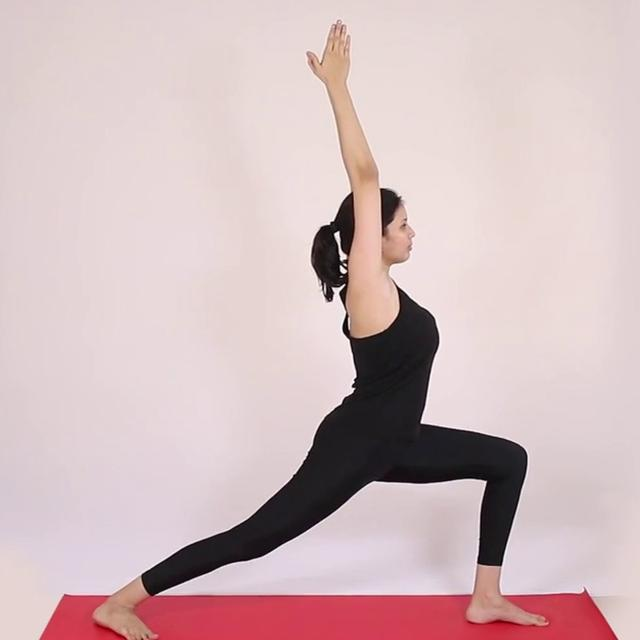Warrior_I: (84, 13, 555, 640)
